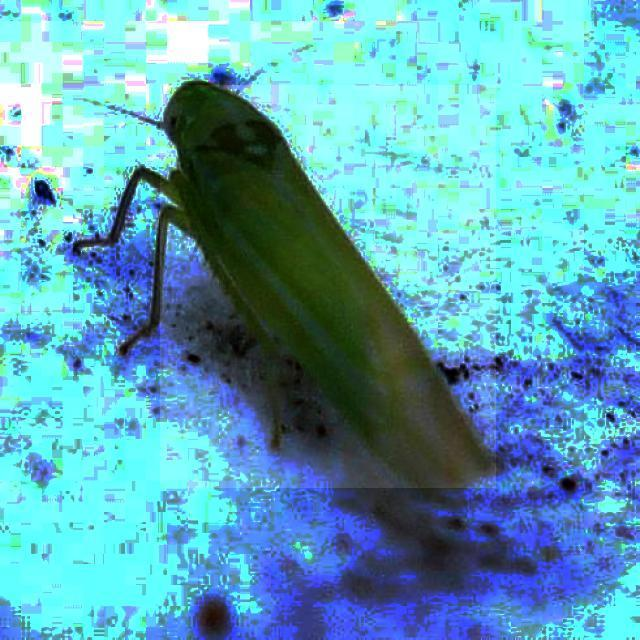green-leafhopper: (161, 85, 497, 488)
